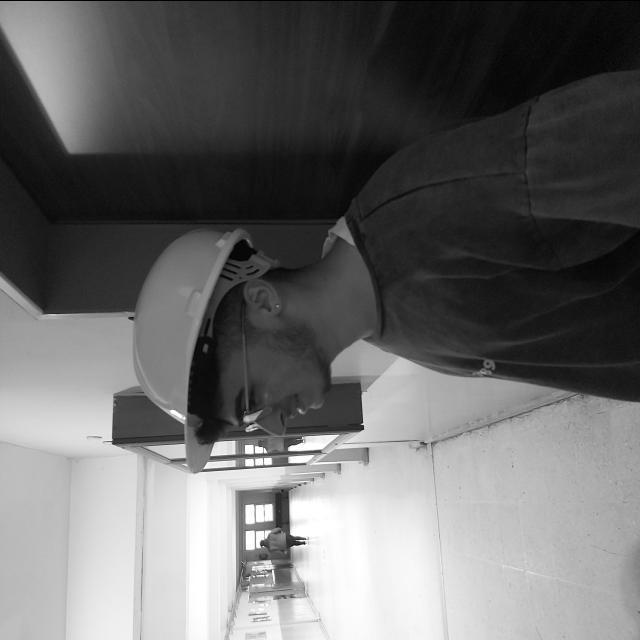safety_helmet: (138, 227, 276, 473)
